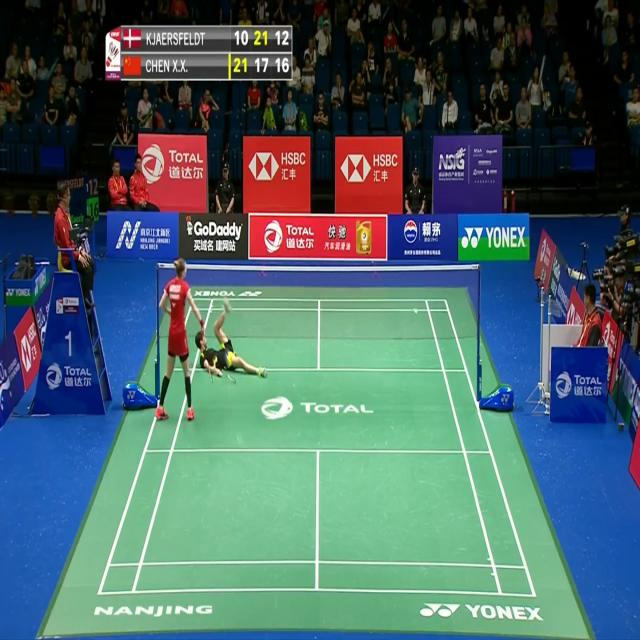Player1: (154, 255, 202, 429)
Player2: (193, 291, 271, 392)
